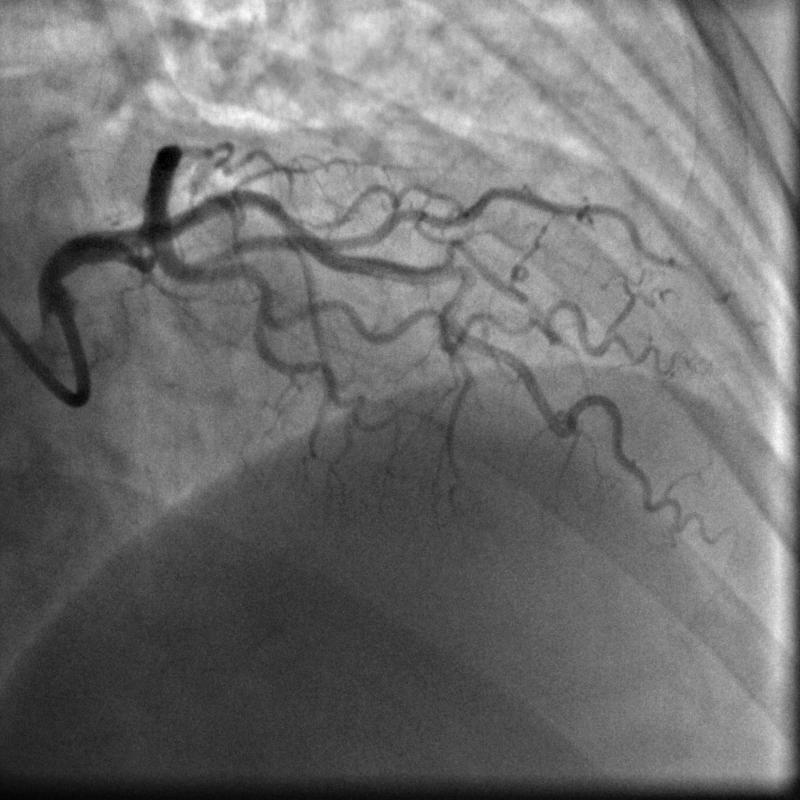Stenosis: (138, 227, 164, 271)
